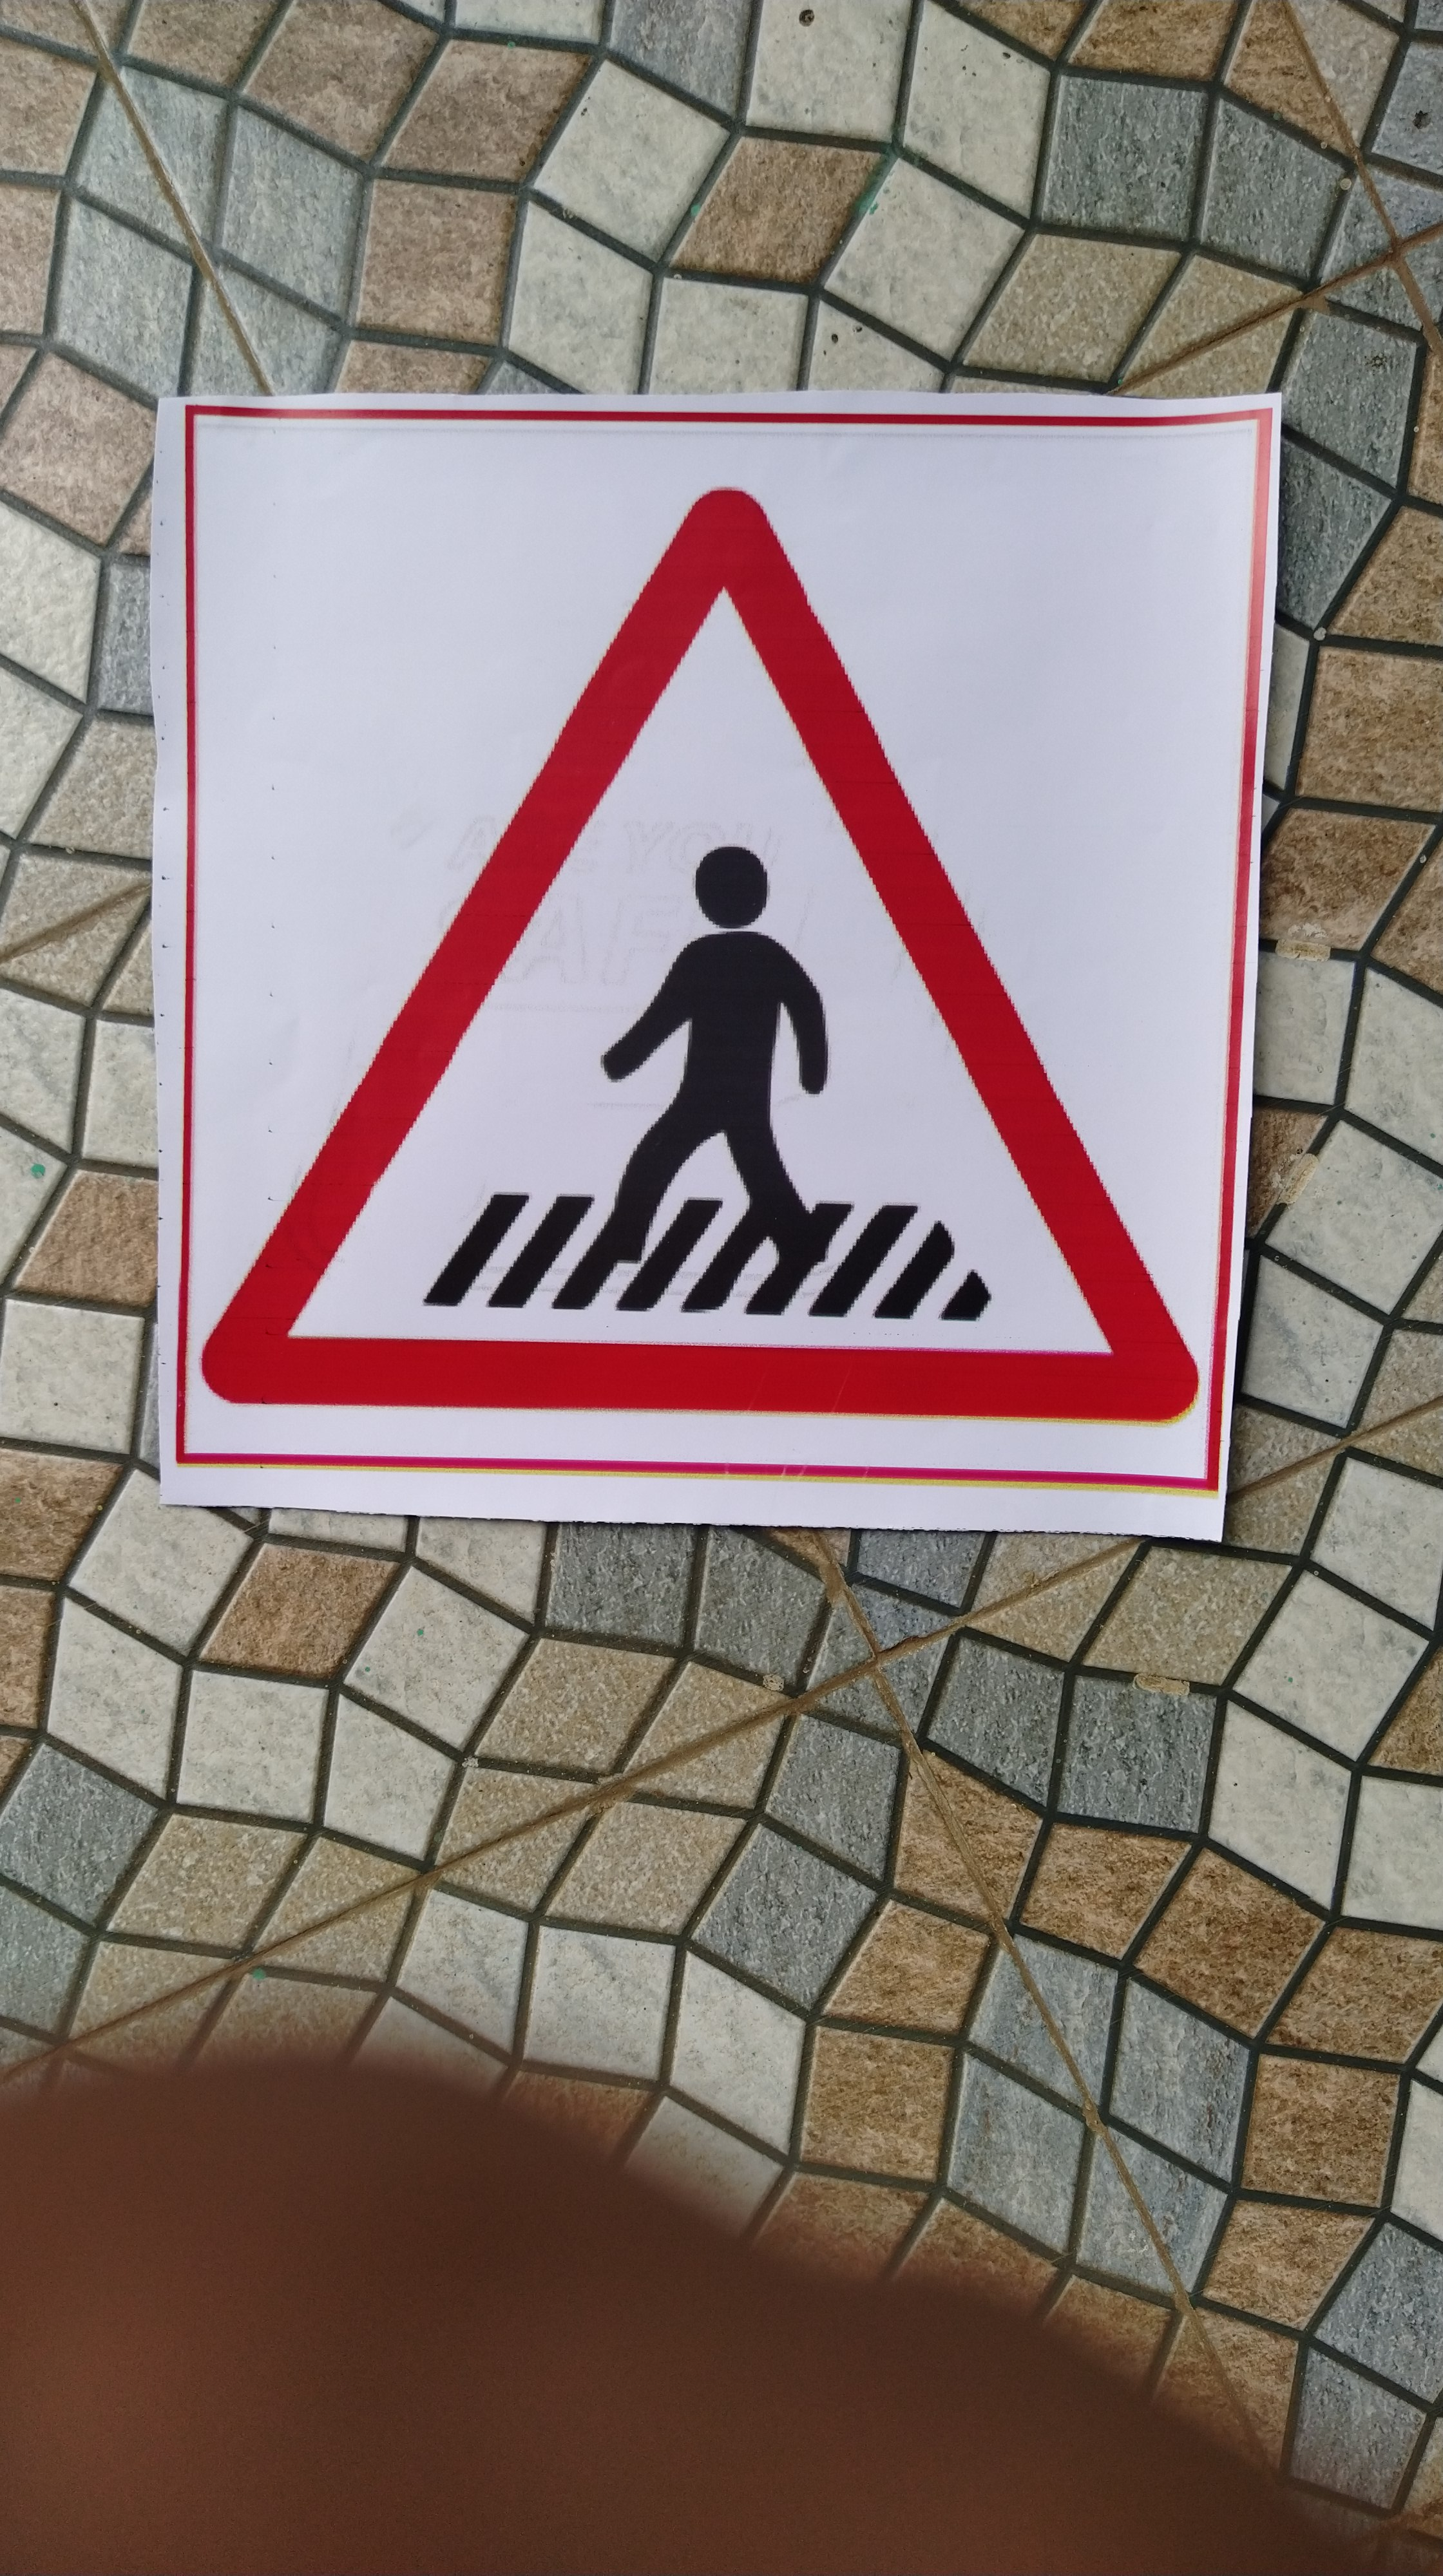pedestrain crossing: (195, 455, 1216, 1559)
